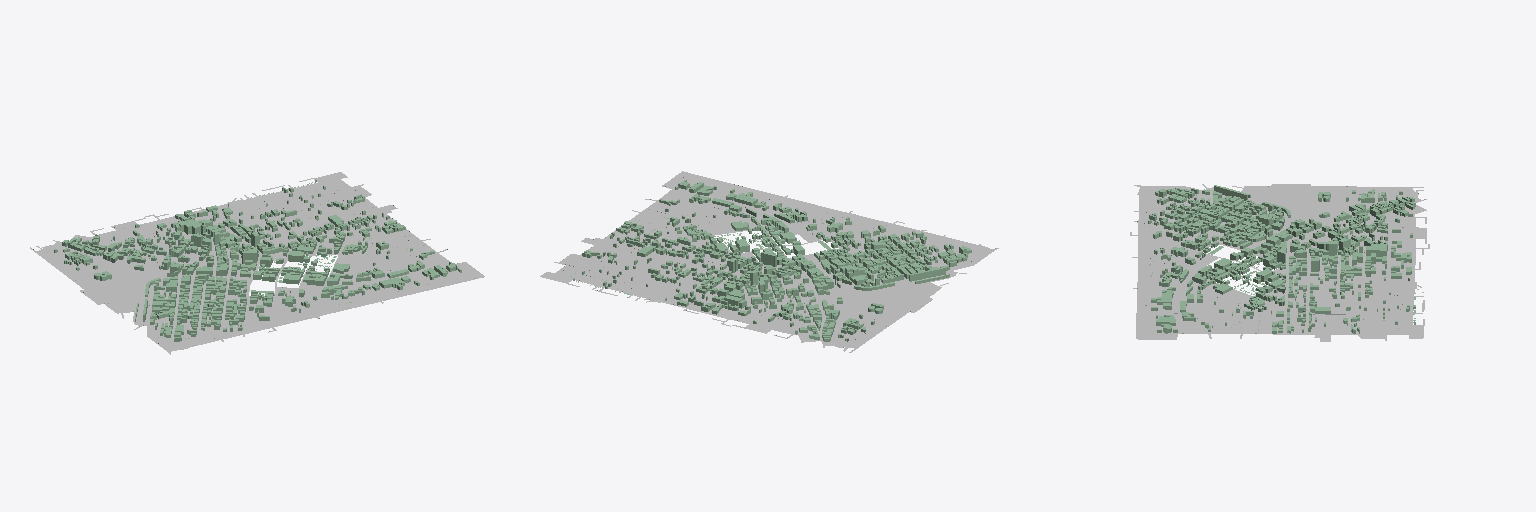
File: auto-street.obj
3 views of the same model, side by side, from view 1: azimuth 30°, elevation 25°; view 2: azimuth 150°, elevation 25°; view 3: azimuth 270°, elevation 25° (orthographic).
Visible parts, largest first — view 1: Street_Street.002, ShapeIndexedFaceSet; view 2: Street_Street.002, ShapeIndexedFaceSet; view 3: Street_Street.002, ShapeIndexedFaceSet.
Boxes of the visible parts, box(x1,y1,x2,y2) form: Street_Street.002: box(30, 172, 484, 354); ShapeIndexedFaceSet: box(54, 179, 461, 341); Street_Street.002: box(540, 171, 998, 352); ShapeIndexedFaceSet: box(570, 180, 971, 341); Street_Street.002: box(1130, 184, 1429, 341); ShapeIndexedFaceSet: box(1148, 185, 1415, 333).
Bounding box in the file's own units: 308 × 12.01 × 247.